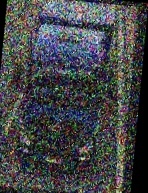truck: (8, 0, 123, 176)
